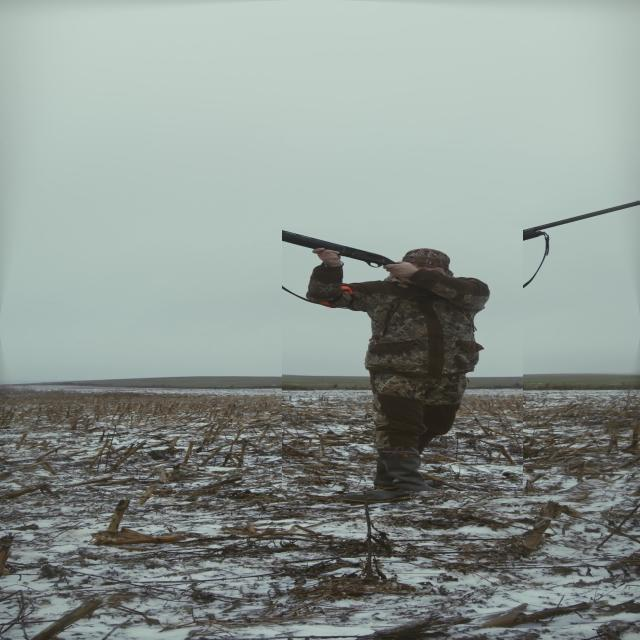poacher: (282, 227, 523, 491)
weapon: (401, 206, 640, 266)
